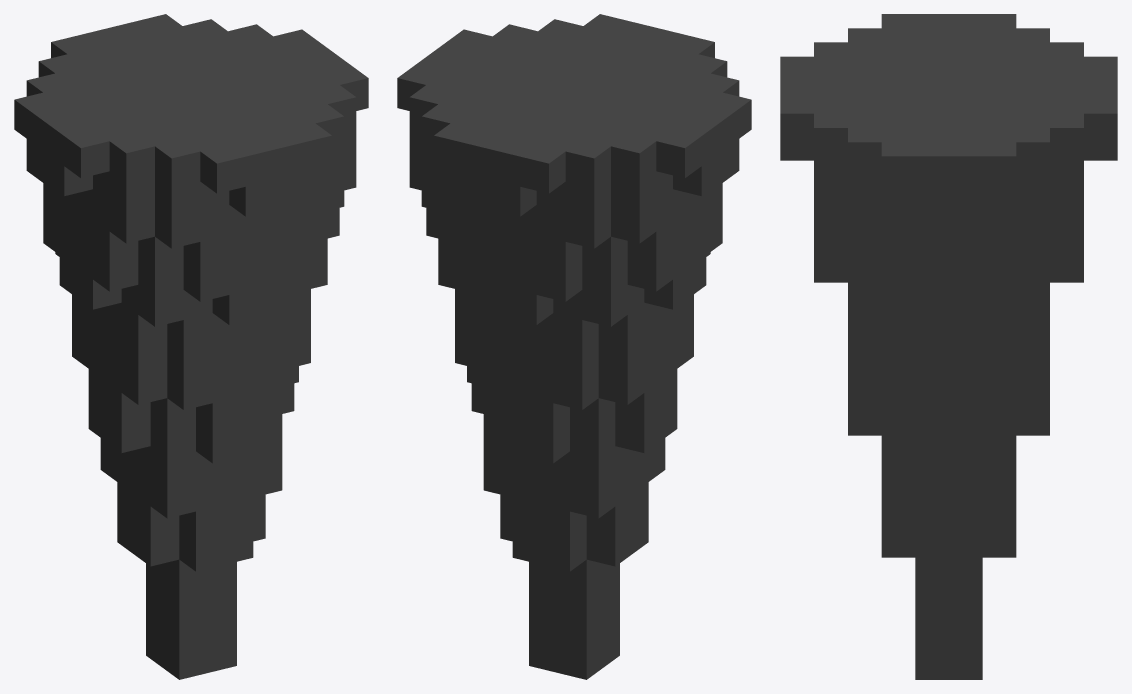
The model's file is estalagtiteEmite-0.obj.
The picture shows the model from 3 angles, left to right: view 1: azimuth 30°, elevation 25°; view 2: azimuth 150°, elevation 25°; view 3: azimuth 270°, elevation 25°; orthographic projection.
Size of the model in its own units: 1 by 1.9 by 1.
1 material, 1 textured.
